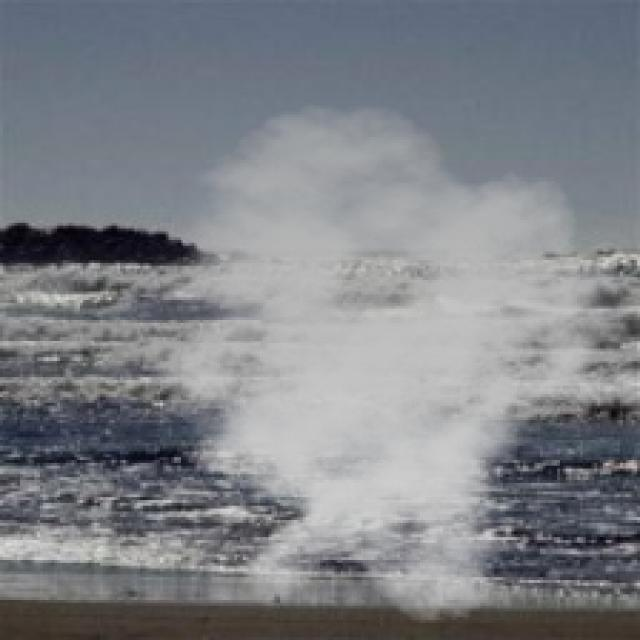smoke: (103, 103, 634, 626)
